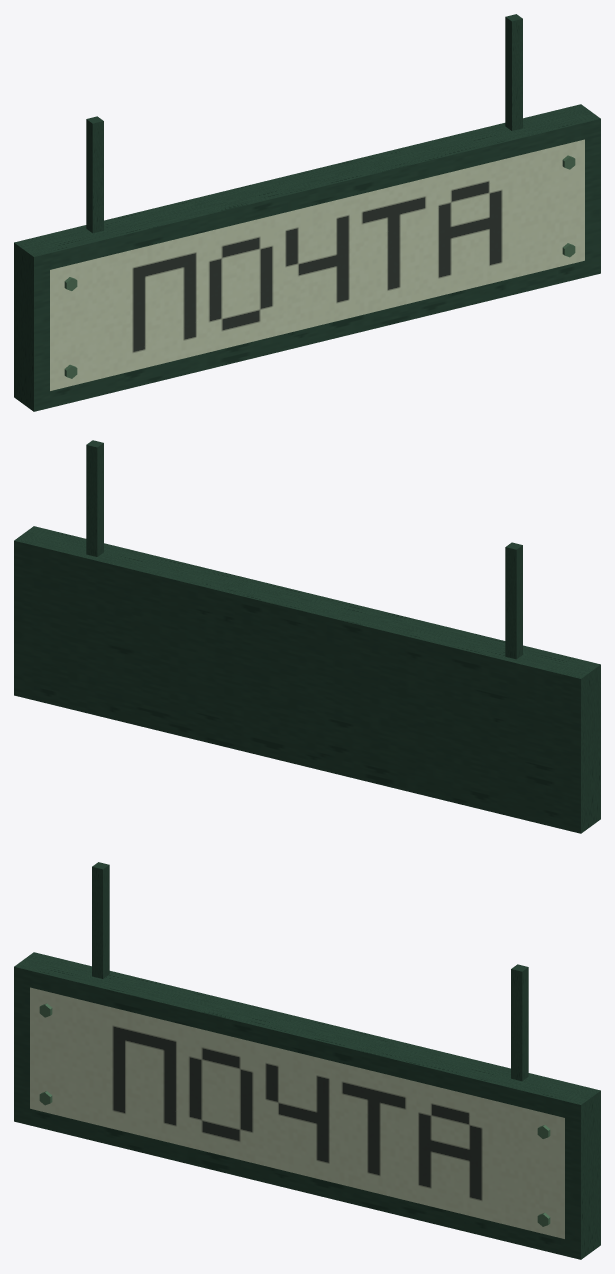
The model's file is PostSign.fbx.
3 renders of one model, top to bottom at view 1: azimuth 30°, elevation 25°; view 2: azimuth 150°, elevation 25°; view 3: azimuth 330°, elevation 25°, orthographic.
Parts seen in each view (by area): view 1: PostSign; view 2: PostSign; view 3: PostSign.
Boxes of the visible parts, x1,y1,x2,y2 form: PostSign: [14, 14, 600, 411]; PostSign: [14, 440, 600, 833]; PostSign: [14, 862, 600, 1259].
Bounding box in the file's own units: 230 × 103 × 16.5.
